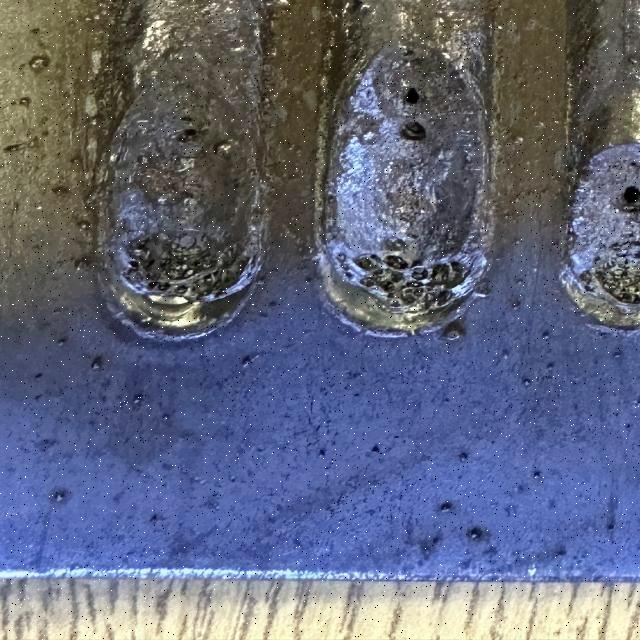Porosity: (625, 184, 640, 202)
